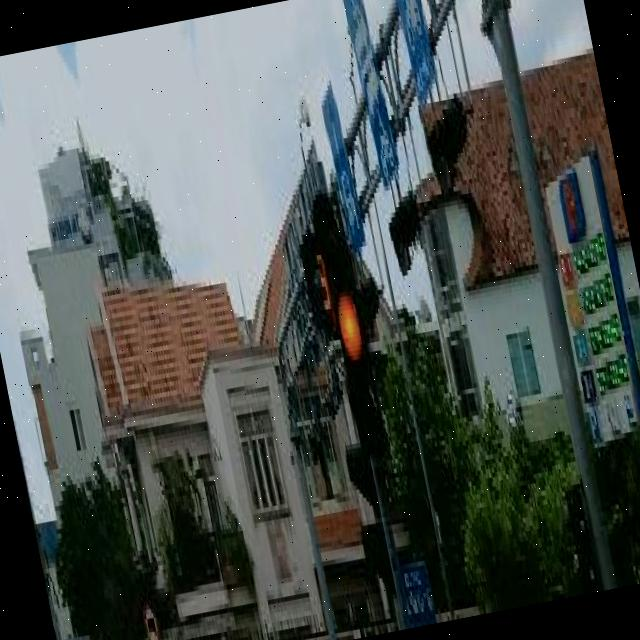yellow_light: (312, 198, 388, 456)
